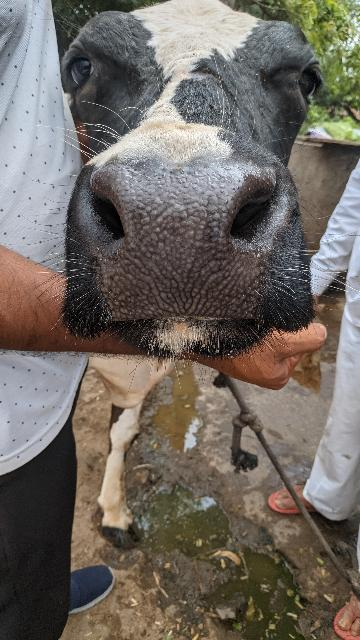Muzzle: (91, 162, 265, 326)
